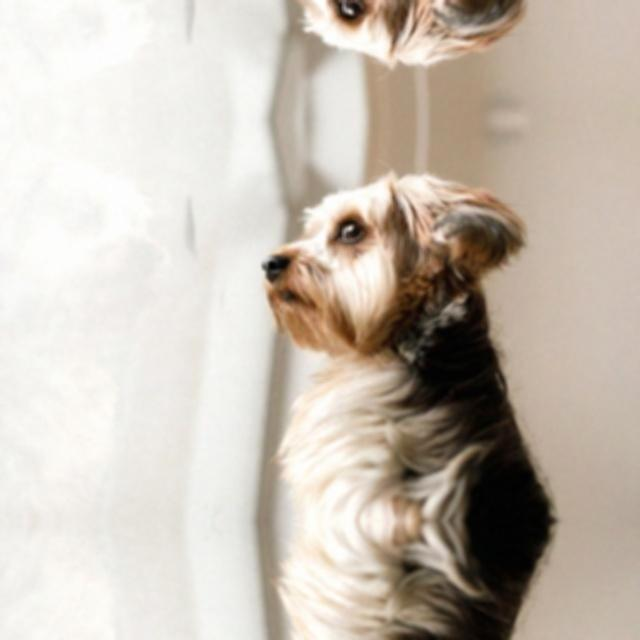dog: (219, 160, 519, 354), (219, 0, 519, 78)
